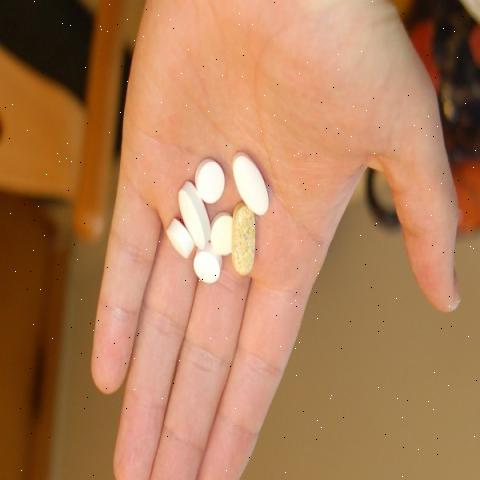Pill: (227, 142, 274, 220), (176, 177, 210, 253), (191, 154, 227, 208), (161, 212, 193, 270), (191, 247, 221, 286)
